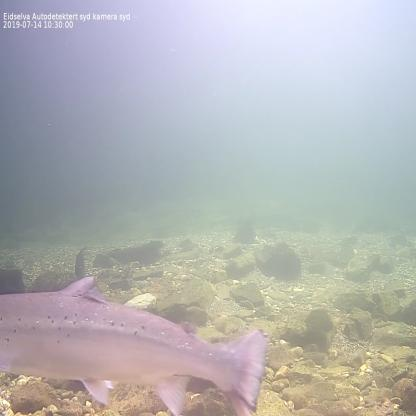salmon: (0, 272, 274, 415)
